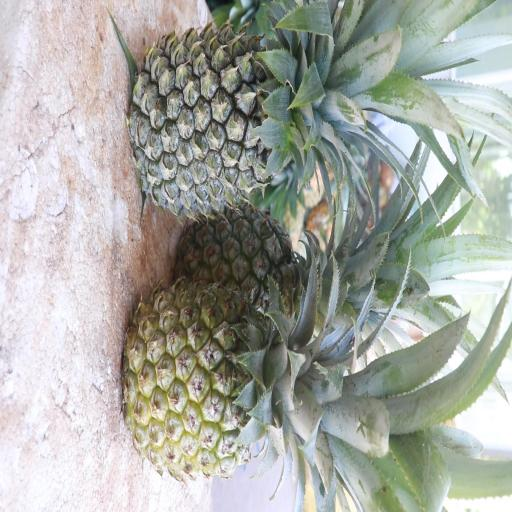------------------------------: (116, 272, 354, 486), (169, 197, 369, 352)
